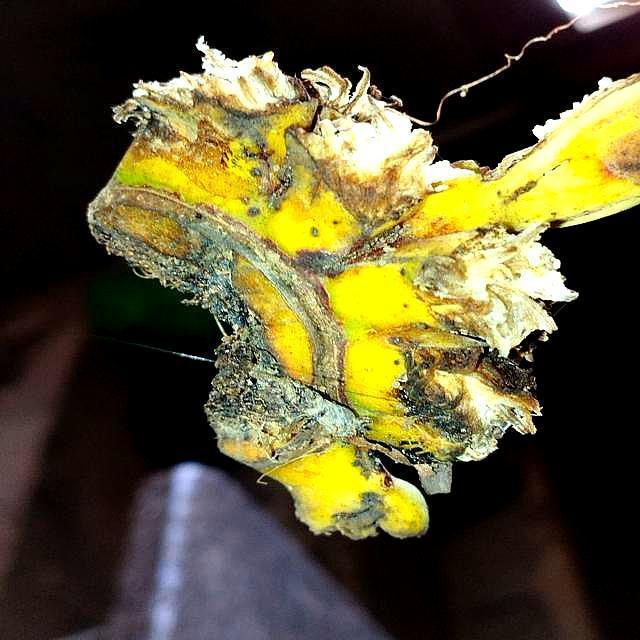Biodegradable: (83, 39, 640, 539)
